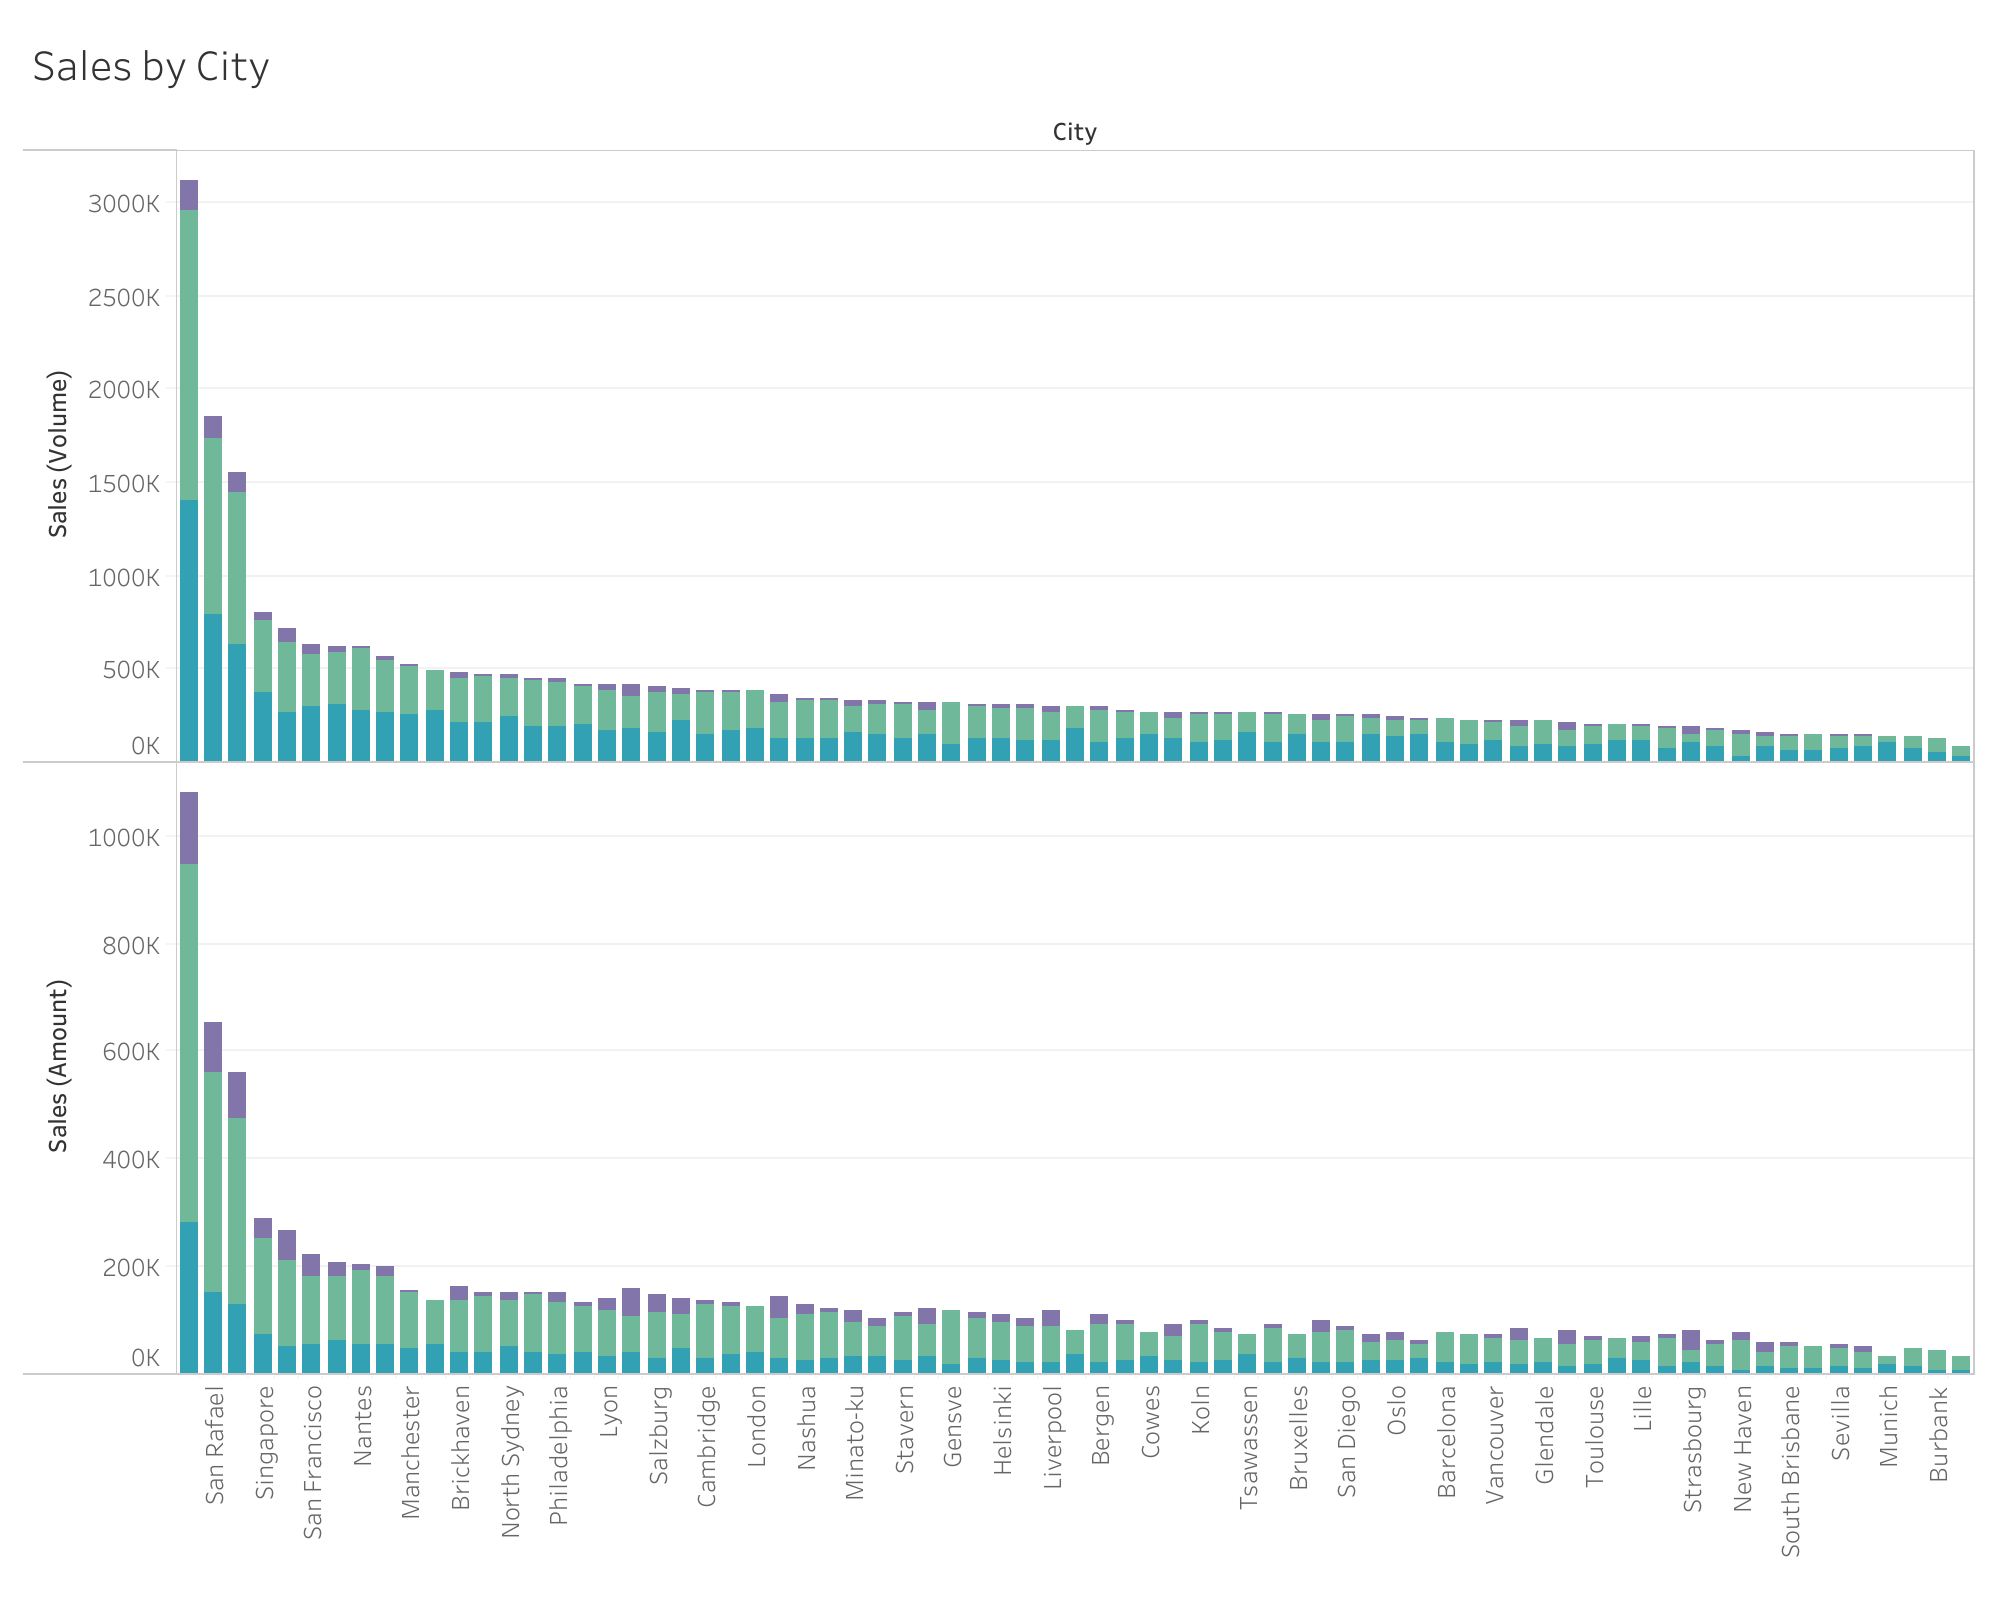

Layout of this report page (visuals, bound fields, positions):
{"tool":"tableau","page":{"name":"Sales by City","canvas":[1000,800],"ordinal":0},"visuals":[{"type":"worksheet","title":"Sales by City Bar Chart","mark":"Automatic","rows":["ORDERNUMBER","SALES"],"cols":["CITY"],"box":[8,8,984,784]}]}

Visuals, with their boxes in screenshot pixels (x1, y1, x2, y2), scaled from the page's 1000x800 canvas onto the 1998x1598 screenshot:
"Sales by City Bar Chart" worksheet: box=[16, 16, 1982, 1582]
